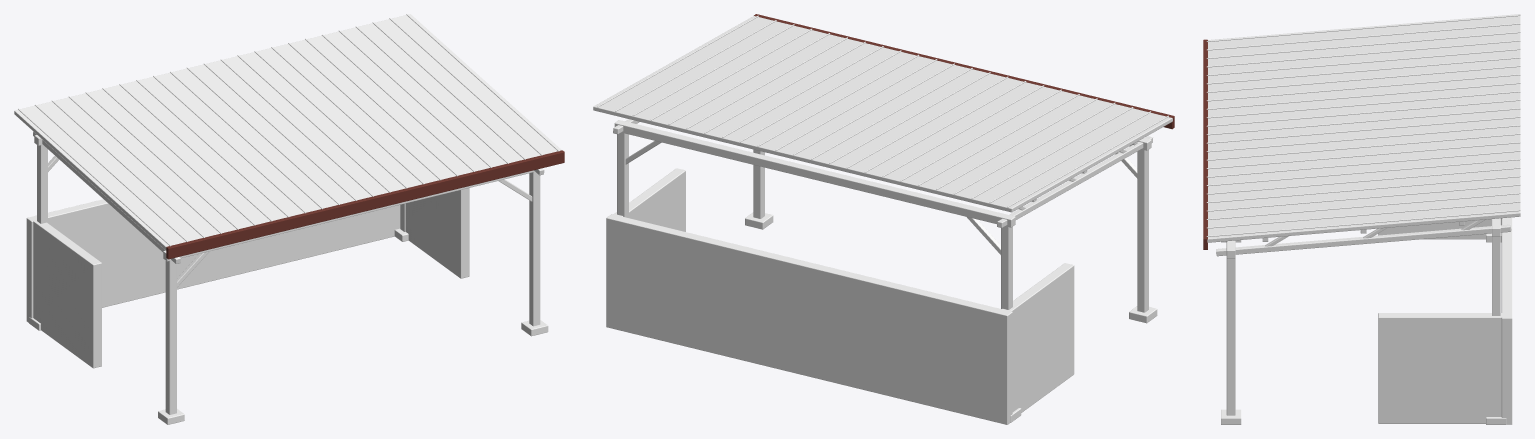
Rendered from B07_LOGISTICS_CANOPY.glb.
3 renders of one model, left to right at view 1: azimuth 30°, elevation 25°; view 2: azimuth 150°, elevation 25°; view 3: azimuth 270°, elevation 25°, orthographic. The views are drawn at different scales.
Visible parts, largest first — view 1: B07_LOGISTICS_CANOPY; view 2: B07_LOGISTICS_CANOPY; view 3: B07_LOGISTICS_CANOPY.
Boxes of the visible parts, x1,y1,x2,y2 form: B07_LOGISTICS_CANOPY: [14, 14, 564, 424]; B07_LOGISTICS_CANOPY: [593, 14, 1174, 424]; B07_LOGISTICS_CANOPY: [1203, 14, 1520, 424].
Bounding box in the file's own units: 9.6 × 4.88 × 6.47.
